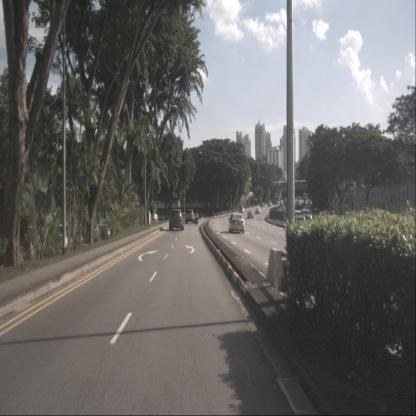human-pedestrian-adult: (351, 203, 356, 224)
vehicle-car: (96, 219, 114, 239), (228, 213, 245, 233), (169, 209, 184, 231), (185, 210, 195, 224), (302, 209, 312, 223), (294, 210, 303, 224), (150, 210, 158, 221), (247, 209, 254, 218), (277, 210, 284, 219), (294, 200, 300, 208), (294, 205, 300, 213), (255, 207, 261, 214), (240, 206, 245, 213), (280, 206, 284, 214), (267, 200, 271, 207)
vehicle-motorcycle: (194, 210, 198, 226)
vehicle-truck: (273, 195, 278, 205), (303, 192, 307, 200)
